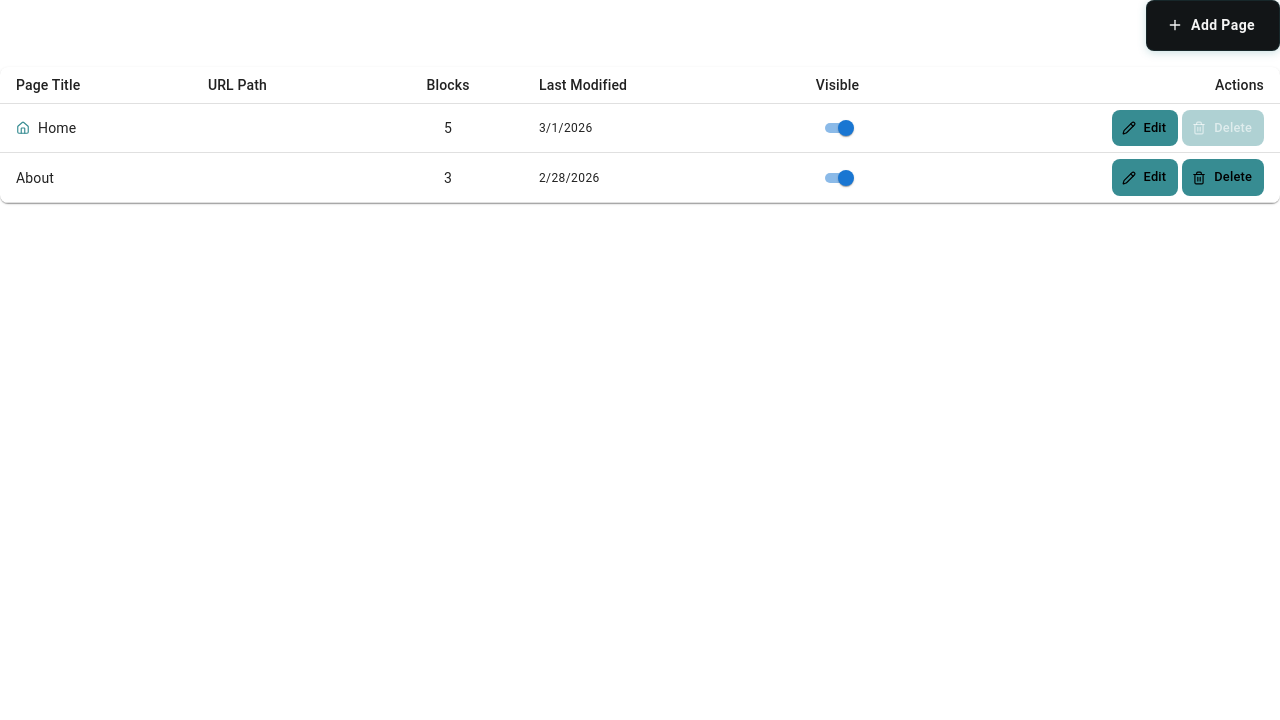
it: 10.3.5 — PagesTab › Add Page button opens dialog
What coordinates should you click on to do the following:
click the button "Add Page"
I would click on:
 (1213, 25)
Its box is x1=1146 y1=0 x2=1279 y2=50.
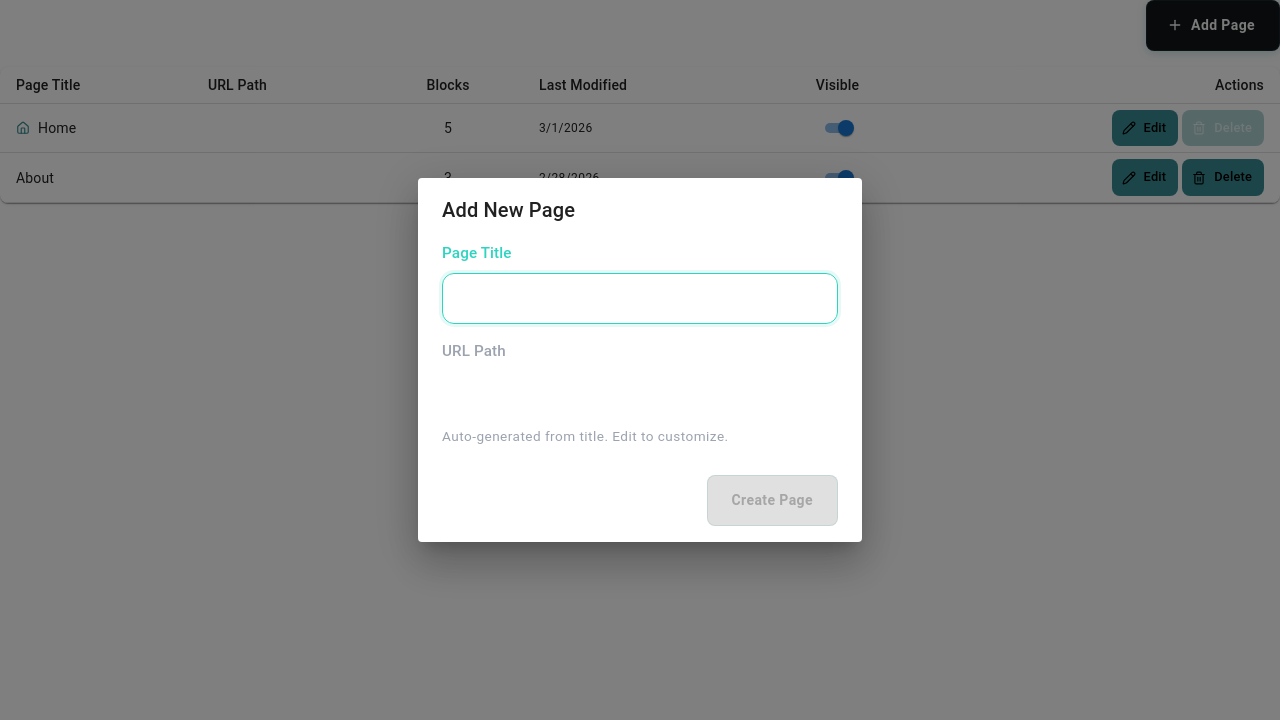
Check: the dialog is shown, box x1=418 y1=178 x2=862 y2=542
